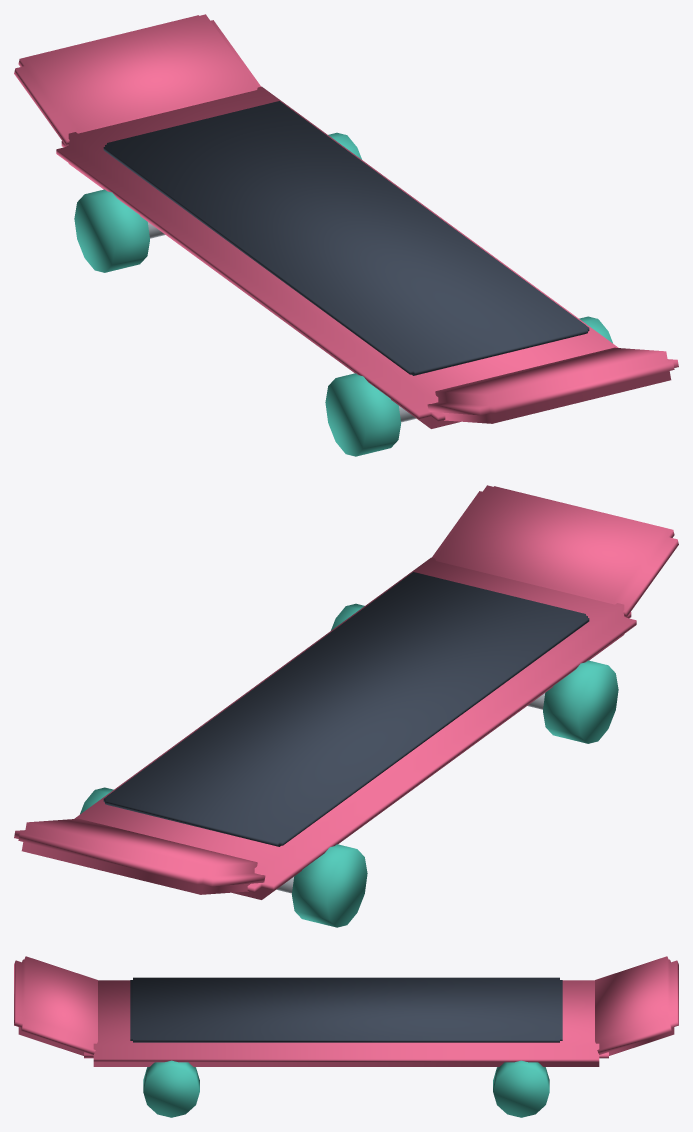
The model's file is Skateboard.fbx.
3 views of the same model, one above another, from view 1: azimuth 30°, elevation 25°; view 2: azimuth 150°, elevation 25°; view 3: azimuth 270°, elevation 25° (orthographic). The views are drawn at different scales.
Visible parts, largest first — view 1: Skateboard; view 2: Skateboard; view 3: Skateboard.
Part boxes in pixels (x1,y1,x2,y2): Skateboard: (14, 14, 678, 456); Skateboard: (14, 485, 678, 927); Skateboard: (14, 956, 678, 1117).
Size of the model in its own units: 0.395 by 0.1895 by 1.29.
